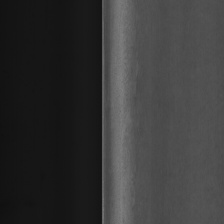silk_spot: (120, 21, 147, 219)
